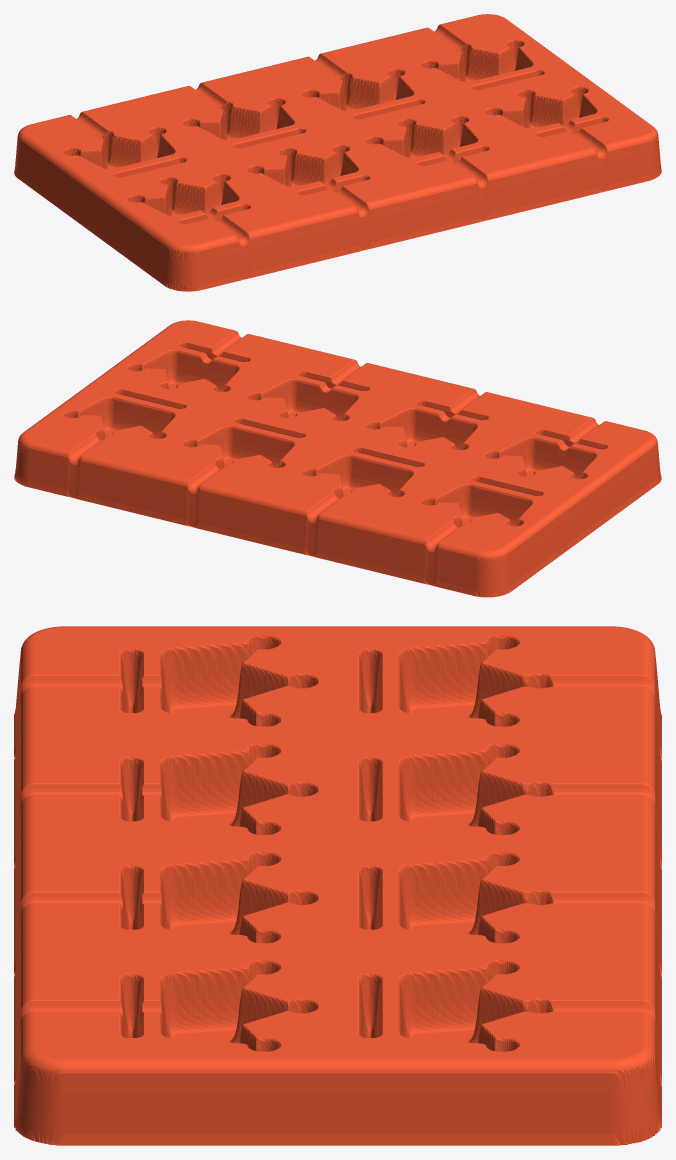
The model's file is mold.glb.
The picture shows the model from 3 angles, top to bottom: view 1: azimuth 30°, elevation 25°; view 2: azimuth 150°, elevation 25°; view 3: azimuth 270°, elevation 25°; orthographic projection. The views are drawn at different scales.
Parts seen in each view (by area): view 1: geometry_0; view 2: geometry_0; view 3: geometry_0.
Boxes of the visible parts, x1,y1,x2,y2 form: geometry_0: [14, 14, 661, 291]; geometry_0: [14, 320, 661, 597]; geometry_0: [14, 626, 661, 1145].
Size of the model in its own units: 0.1907 by 0.0155 by 0.1165.
